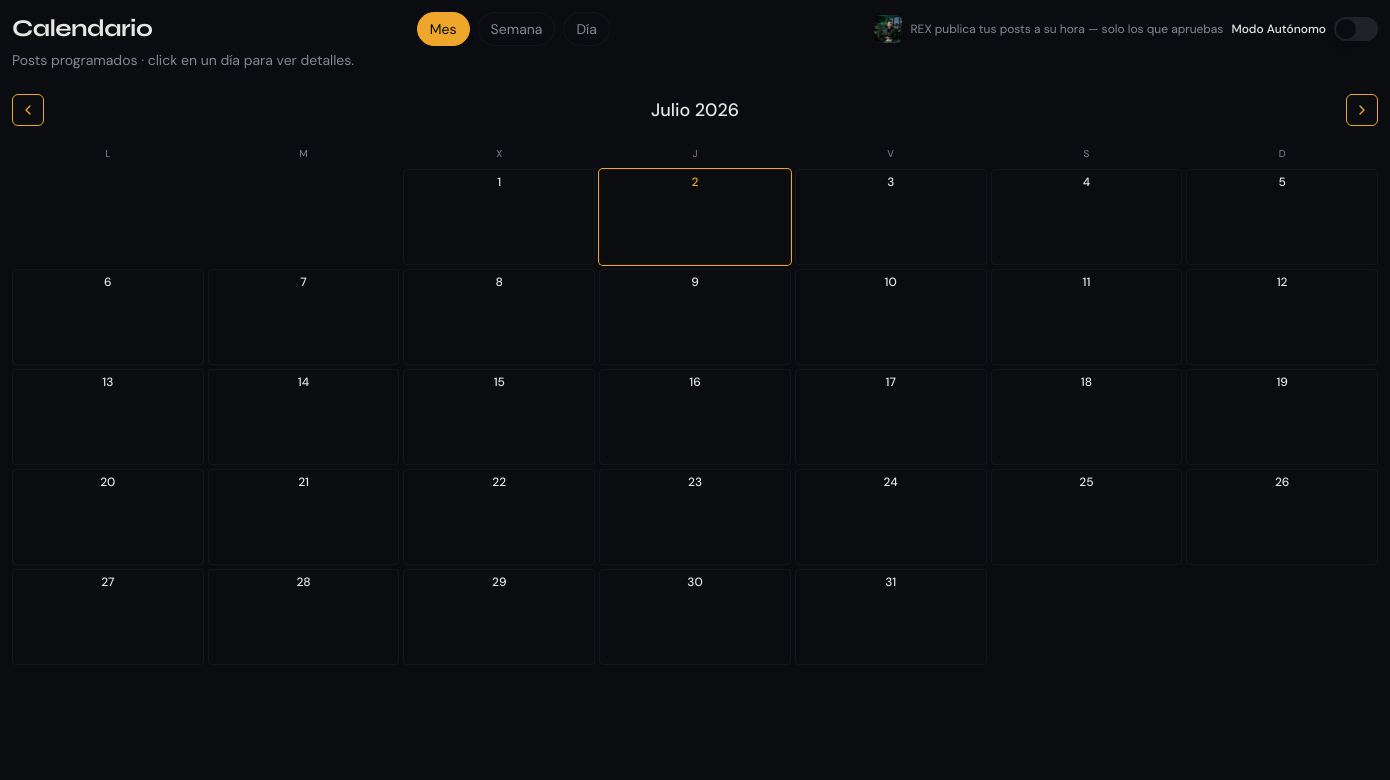
Test: Calendar · full-width + navegación Mes→Día (Commit 3) › test_chips_siguen · click Semana cambia view (cae en mes en C3)
This screenshot has width=1390, height=780.
Click the button "Semana". click: [516, 29]
box: [478,12,555,46]
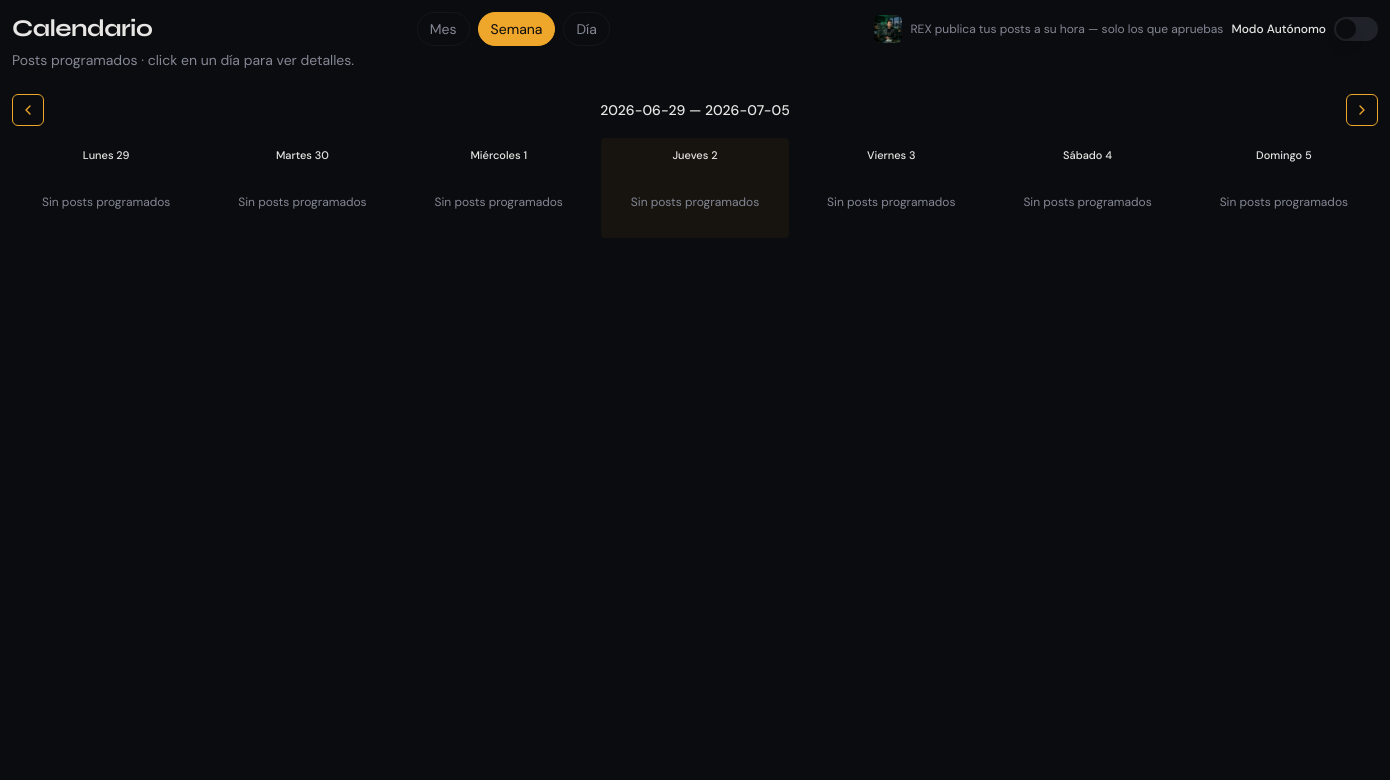
Check: the element with class "grid-cols-7" is shown, box [12,138,1378,238]
